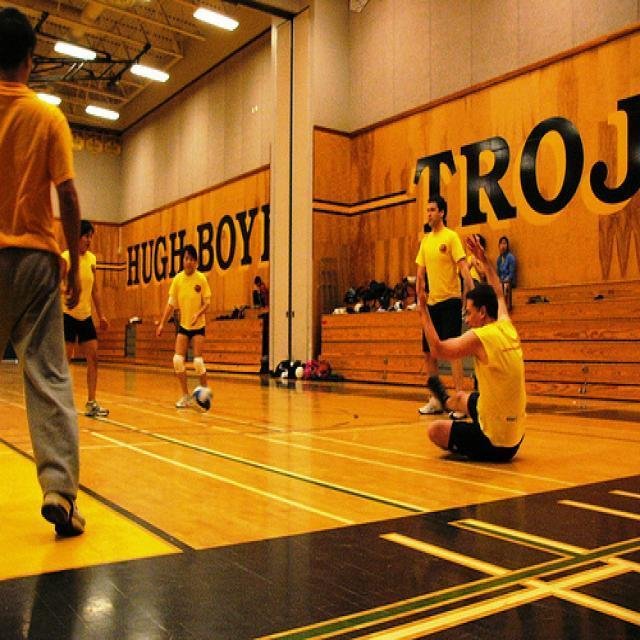volleyball: (190, 385, 212, 413)
